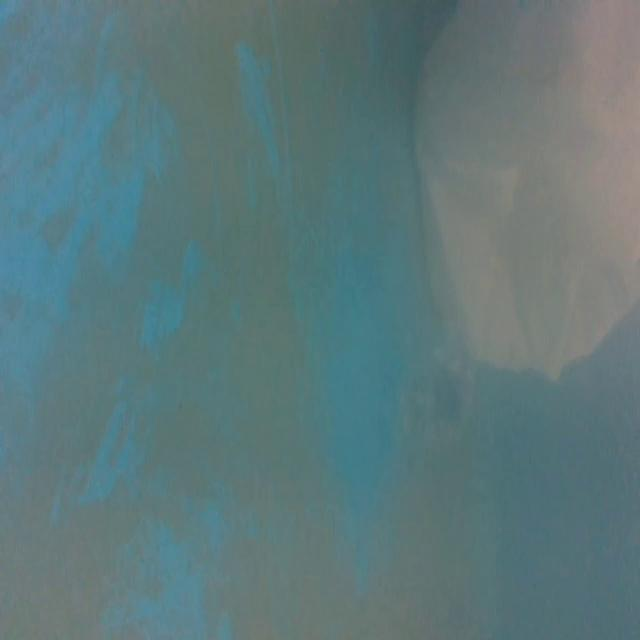plastic bags: (412, 2, 640, 374)
